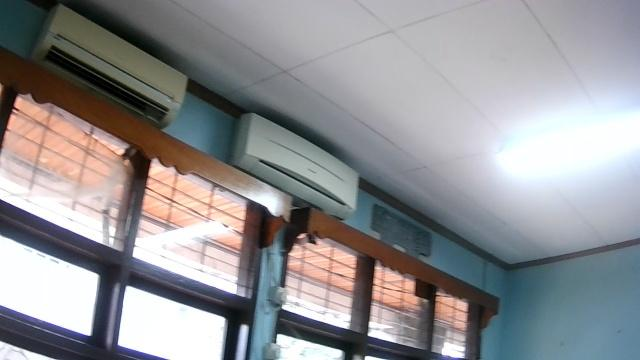AC: (27, 2, 189, 131), (231, 111, 360, 221)
